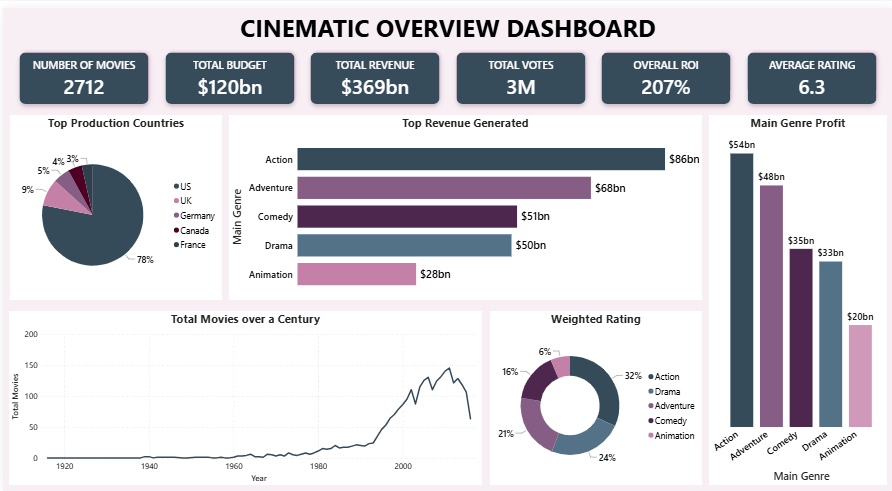

The page's visual inventory and layout, read from the dashboard file:
{"tool":"powerbi","page":{"name":"General Movie Performance ","canvas":[1780,970],"ordinal":0},"visuals":[{"type":"cardVisual","fields":{"Data":["movies.Total Movies"]},"box":[12.5,68.3,300,145],"z":0,"group":"g1"},{"type":"lineChart","title":"Total Movies over a Century","fields":{"Category":["movies.Release Date.Variation.Date Hierarchy.Year","movies.Release Date.Variation.Date Hierarchy.Quarter","movies.Release Date.Variation.Date Hierarchy.Month","movies.Release Date.Variation.Date Hierarchy.Day"],"Y":["movies.Total Movies"]},"box":[12,606,946,348],"z":0},{"type":"cardVisual","fields":{"Data":["movies.Total Budget"]},"box":[303.6,68.3,300,145],"z":1000,"group":"g1"},{"type":"clusteredBarChart","title":"Top Revenue Generated","fields":{"Category":["movies.Genre 1"],"Y":["Sum(movies.Revenue)"]},"box":[452,214,946,370],"z":1000},{"type":"textbox","box":[0,0,1780,81.7],"z":2000},{"type":"cardVisual","fields":{"Data":["movies.Total Revenue"]},"box":[594.8,68.3,300,145],"z":2000,"group":"g1"},{"type":"cardVisual","fields":{"Data":["movies.Total ROI"]},"box":[1176.7,68.3,300,145],"z":3000,"group":"g1"},{"type":"pieChart","title":"Top Production Countries","fields":{"Category":["movies.Production Countries"],"Y":["CountNonNull(movies.Movie Title)"]},"box":[14,214,424,370],"z":3000},{"type":"group","id":"g1","title":"Group 1","box":[12.5,68.3,1755,145],"z":4000},{"type":"cardVisual","fields":{"Data":["movies.Average Rating"]},"box":[1467.5,68.3,300,145],"z":4000,"group":"g1"},{"type":"cardVisual","fields":{"Data":["movies.Total Vote Count"]},"box":[885.9,68.3,300,145],"z":5000,"group":"g1"},{"type":"donutChart","title":"Weighted Rating ","fields":{"Category":["movies.Main Genre"],"Y":["Sum(movies.Weighted Rating)"]},"box":[974,606,424,348],"z":5000},{"type":"clusteredColumnChart","title":"Main Genre Profit","fields":{"Category":["movies.Main Genre"],"Y":["Sum(movies.Net Profit/Loss)"]},"box":[1412,214,356,740],"z":6000}]}

Visuals, with their boxes in screenshot pixels (x1, y1, x2, y2), scaled from the page's 1780x970 canvas onto the 892x491 screenshot:
cardVisual - movies.Total Movies: 6/35/157/108
"Total Movies over a Century" lineChart: 6/307/480/483
cardVisual - movies.Total Budget: 152/35/302/108
"Top Revenue Generated" clusteredBarChart: 227/108/701/296
textbox: 0/0/891/41
cardVisual - movies.Total Revenue: 298/35/448/108
cardVisual - movies.Total ROI: 590/35/740/108
"Top Production Countries" pieChart: 7/108/219/296
"Group 1" group: 6/35/886/108
cardVisual - movies.Average Rating: 735/35/886/108
cardVisual - movies.Total Vote Count: 444/35/594/108
"Weighted Rating " donutChart: 488/307/701/483
"Main Genre Profit" clusteredColumnChart: 708/108/886/483
